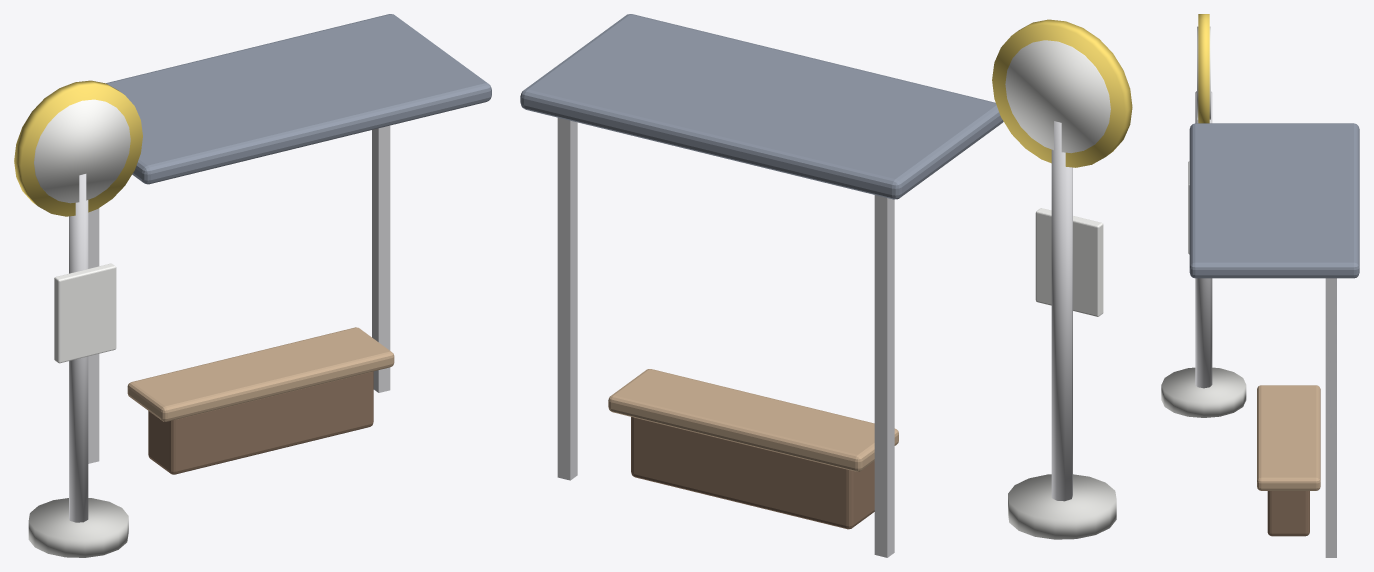
The model's file is stop.glb.
3 renders of one model, left to right at view 1: azimuth 30°, elevation 25°; view 2: azimuth 150°, elevation 25°; view 3: azimuth 270°, elevation 25°, orthographic. The views are drawn at different scales.
Visible parts, largest first — view 1: stop; view 2: stop; view 3: stop.
Boxes of the visible parts, bbox=[...] form: stop: bbox=[14, 14, 491, 557]; stop: bbox=[520, 14, 1132, 557]; stop: bbox=[1161, 14, 1359, 557].
Bounding box in the file's own units: 3.22 × 2.97 × 1.4.
